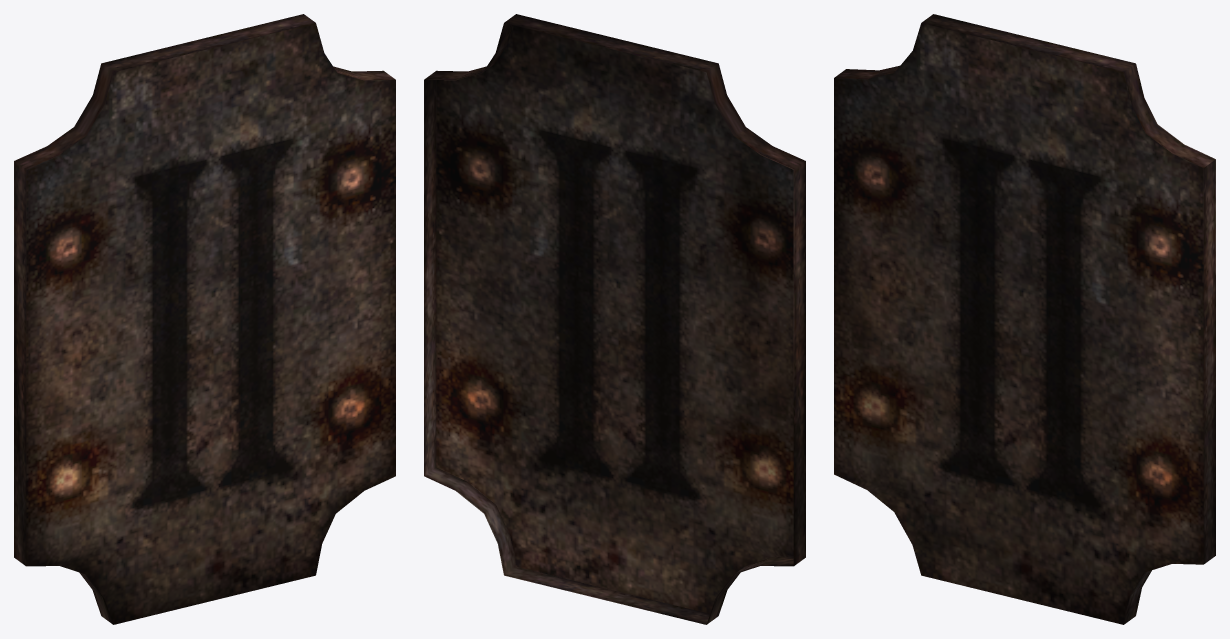
File: roman_numeral_signs_2.dae
3 renders of one model, left to right at view 1: azimuth 30°, elevation 25°; view 2: azimuth 150°, elevation 25°; view 3: azimuth 330°, elevation 25°, orthographic.
Visible parts, largest first — view 1: pCube1; view 2: pCube1; view 3: pCube1.
Boxes of the visible parts, box(x1,y1,x2,y2) form: pCube1: box(14, 14, 395, 624); pCube1: box(424, 14, 805, 624); pCube1: box(834, 14, 1215, 624).
Bounding box in the file's own units: 0.35 × 0.5 × 0.02.
